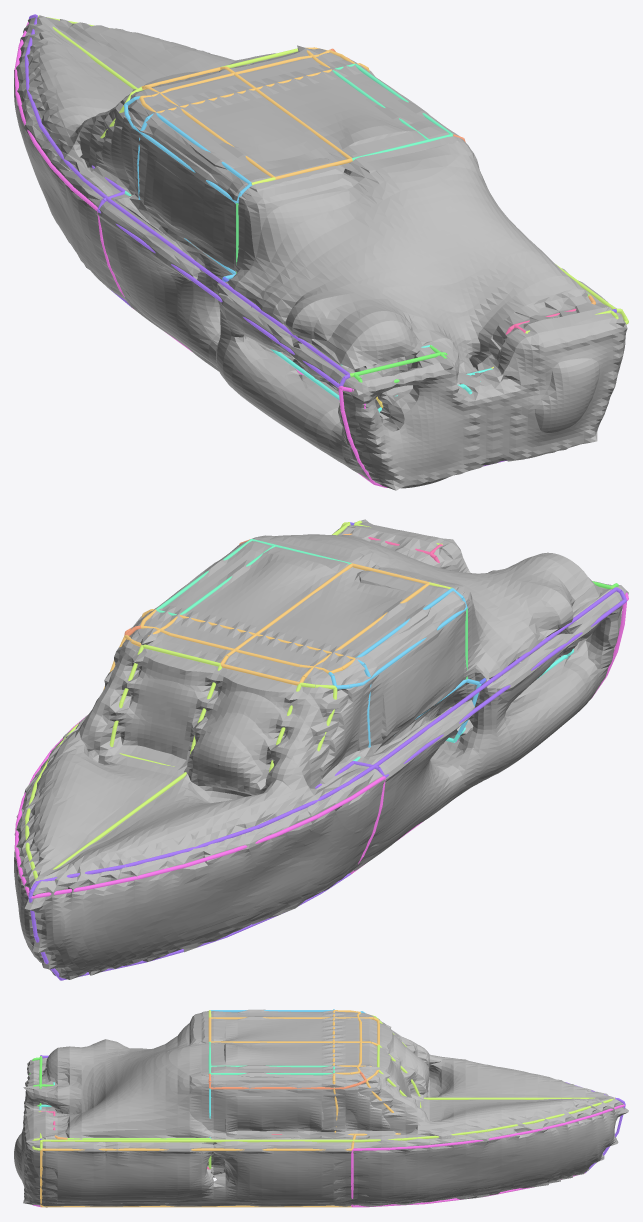
File: flowrep_boat.gltf
The picture shows the model from 3 angles, top to bottom: view 1: azimuth 30°, elevation 25°; view 2: azimuth 150°, elevation 25°; view 3: azimuth 270°, elevation 25°; orthographic projection. The views are drawn at different scales.
Bounding box in the file's own units: 0.3342 × 0.2568 × 0.9513.
